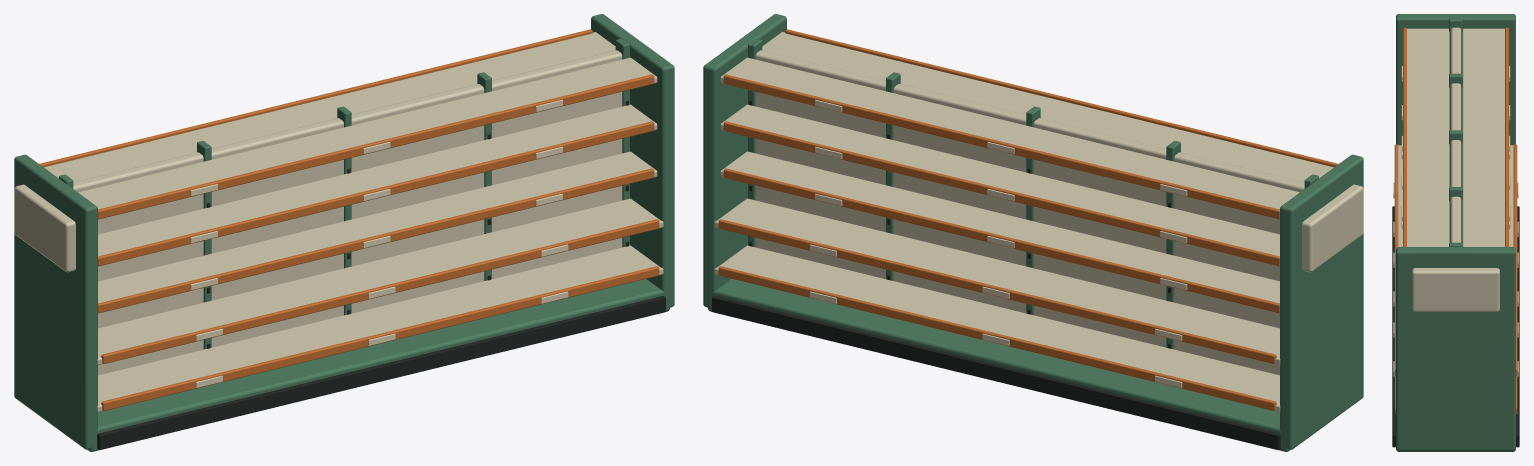
File: grocery_gondola_aisle.glb
3 views of the same model, side by side, from view 1: azimuth 30°, elevation 25°; view 2: azimuth 150°, elevation 25°; view 3: azimuth 270°, elevation 25° (orthographic). The views are drawn at different scales.
Parts seen in each view (by area): view 1: grocery_gondola_aisle_ag_aged_cream_enamel_pbr, grocery_gondola_aisle_ag_weathered_green_enamel_pbr, grocery_gondola_aisle_ag_price_rail_orange_pbr, grocery_gondola_aisle_ag_dark_rubber_conveyor_pbr, grocery_gondola_aisle_ss_cream_formica_pbr; view 2: grocery_gondola_aisle_ag_aged_cream_enamel_pbr, grocery_gondola_aisle_ag_weathered_green_enamel_pbr, grocery_gondola_aisle_ag_price_rail_orange_pbr, grocery_gondola_aisle_ag_dark_rubber_conveyor_pbr, grocery_gondola_aisle_ss_cream_formica_pbr; view 3: grocery_gondola_aisle_ag_aged_cream_enamel_pbr, grocery_gondola_aisle_ag_weathered_green_enamel_pbr, grocery_gondola_aisle_ag_price_rail_orange_pbr, grocery_gondola_aisle_ag_dark_rubber_conveyor_pbr, grocery_gondola_aisle_ss_cream_formica_pbr.
Part boxes in pixels (bbox=[...]): grocery_gondola_aisle_ag_aged_cream_enamel_pbr: bbox=[14, 32, 663, 412]; grocery_gondola_aisle_ag_weathered_green_enamel_pbr: bbox=[14, 14, 674, 451]; grocery_gondola_aisle_ag_price_rail_orange_pbr: bbox=[39, 29, 659, 410]; grocery_gondola_aisle_ag_dark_rubber_conveyor_pbr: bbox=[97, 101, 665, 449]; grocery_gondola_aisle_ss_cream_formica_pbr: bbox=[190, 99, 568, 387]; grocery_gondola_aisle_ag_aged_cream_enamel_pbr: bbox=[714, 32, 1363, 412]; grocery_gondola_aisle_ag_weathered_green_enamel_pbr: bbox=[703, 14, 1363, 451]; grocery_gondola_aisle_ag_price_rail_orange_pbr: bbox=[718, 29, 1338, 410]; grocery_gondola_aisle_ag_dark_rubber_conveyor_pbr: bbox=[712, 101, 1280, 449]; grocery_gondola_aisle_ss_cream_formica_pbr: bbox=[809, 99, 1187, 387]; grocery_gondola_aisle_ag_aged_cream_enamel_pbr: bbox=[1398, 27, 1513, 311]; grocery_gondola_aisle_ag_weathered_green_enamel_pbr: bbox=[1396, 14, 1515, 451]; grocery_gondola_aisle_ag_price_rail_orange_pbr: bbox=[1394, 27, 1517, 414]; grocery_gondola_aisle_ag_dark_rubber_conveyor_pbr: bbox=[1392, 206, 1519, 447]; grocery_gondola_aisle_ss_cream_formica_pbr: bbox=[1393, 66, 1518, 376].
Bounding box in the file's own units: 5.43 × 2.1 × 1.18.
